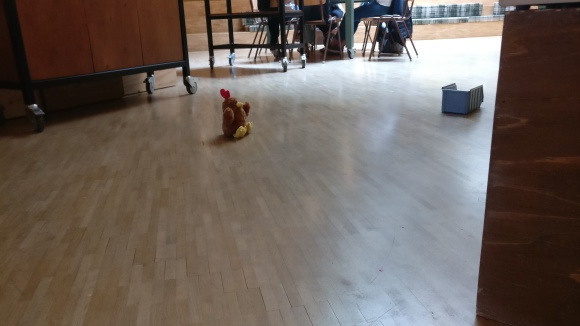chicken: (218, 86, 254, 140)
tray: (440, 80, 485, 115)
